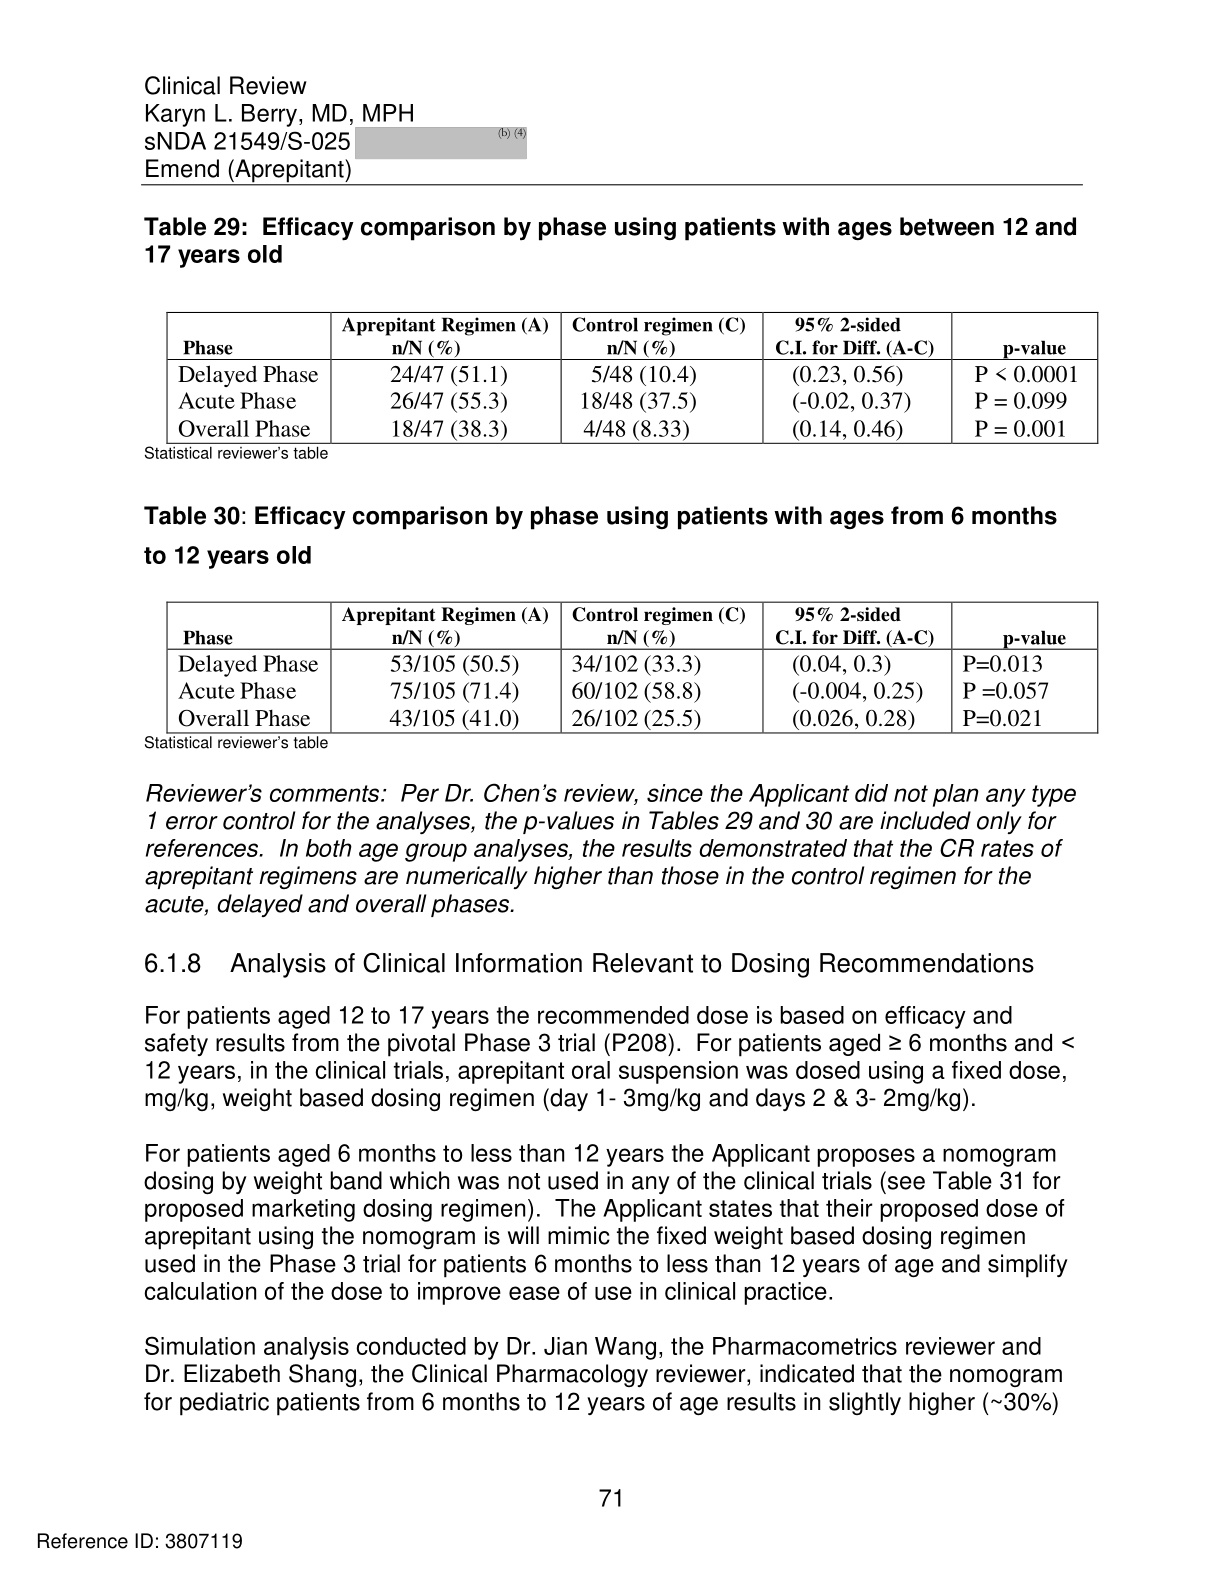partial_lined: (165, 311, 1101, 447), (166, 600, 1102, 732)
